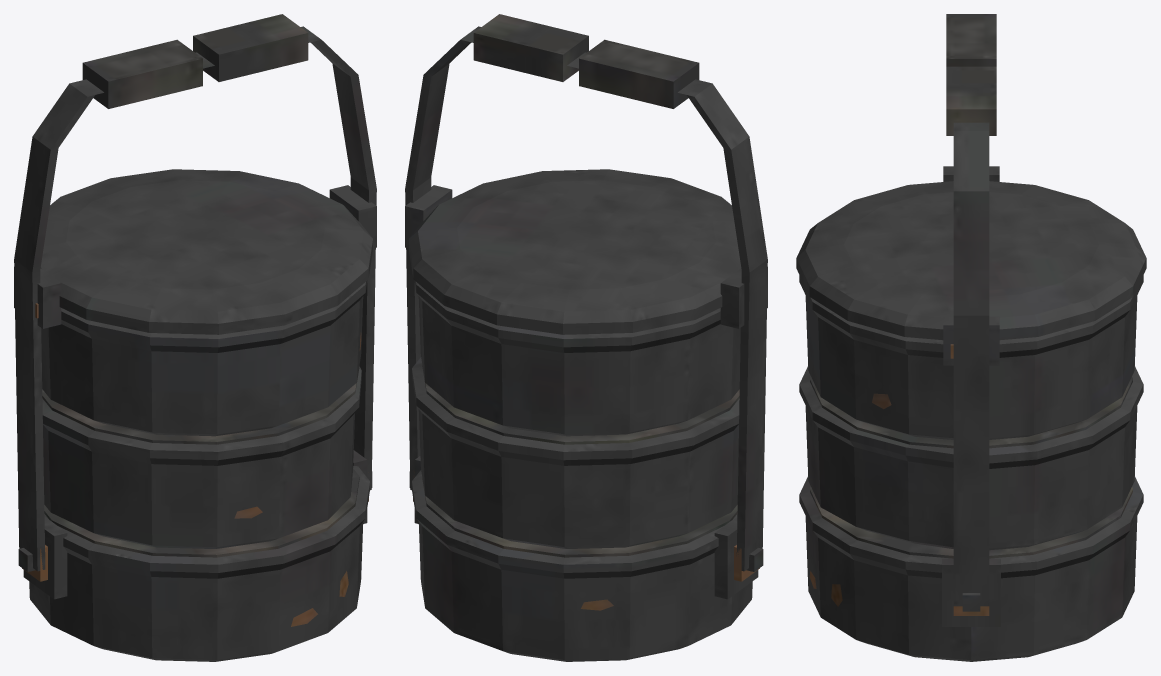
Rendered from K07_tiffin_box.glb.
3 views of the same model, side by side, from view 1: azimuth 30°, elevation 25°; view 2: azimuth 150°, elevation 25°; view 3: azimuth 270°, elevation 25° (orthographic). The views are drawn at different scales.
Parts seen in each view (by area): view 1: Pressed steel compartment; view 2: Pressed steel compartment; view 3: Pressed steel compartment.
Part boxes in pixels (bbox=[...]): Pressed steel compartment: bbox=[14, 14, 376, 661]; Pressed steel compartment: bbox=[405, 14, 767, 661]; Pressed steel compartment: bbox=[796, 14, 1146, 661].
Bounding box in the file's own units: 0.131 × 0.2 × 0.118.
Materials: 3 (3 with a texture image).
